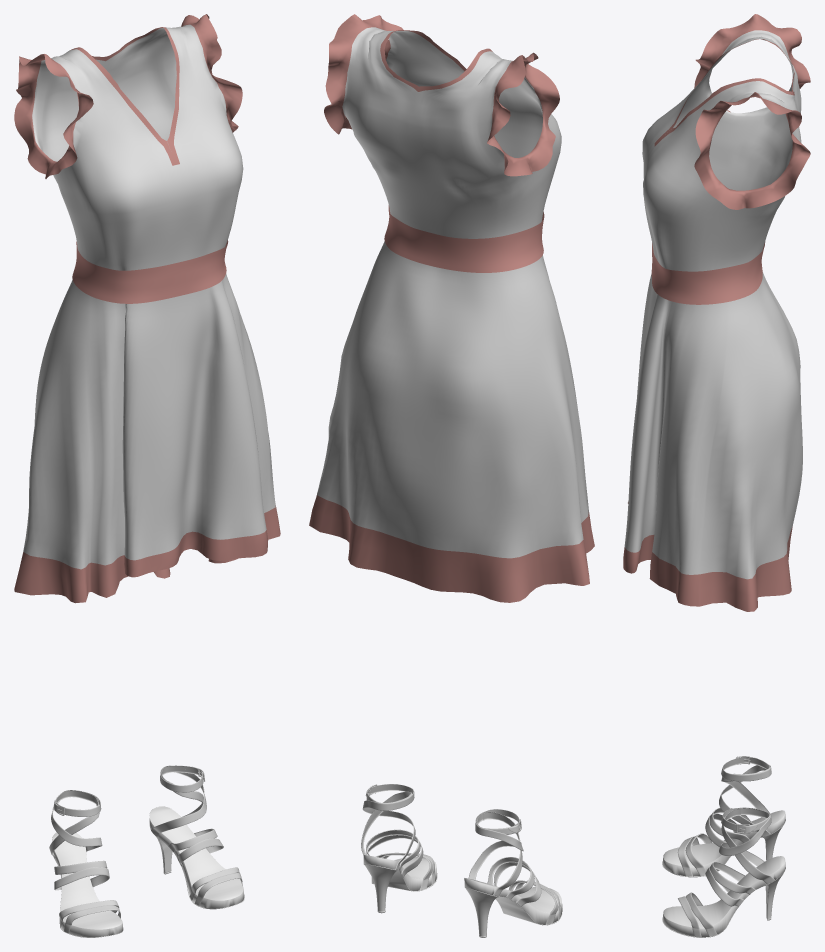
Rendered from replacemodel.glb.
The picture shows the model from 3 angles, left to right: view 1: azimuth 30°, elevation 25°; view 2: azimuth 150°, elevation 25°; view 3: azimuth 270°, elevation 25°; orthographic projection. The views are drawn at different scales.
Visible parts, largest first — view 1: dress, butyZPaskiem.001; view 2: dress, butyZPaskiem.001; view 3: dress, butyZPaskiem.001.
Part boxes in pixels (x1,y1,x2,y2): dress: [14, 14, 280, 603]; butyZPaskiem.001: [49, 765, 244, 937]; dress: [309, 14, 594, 602]; butyZPaskiem.001: [361, 784, 562, 937]; dress: [623, 14, 810, 611]; butyZPaskiem.001: [662, 756, 785, 937].
Size of the model in its own units: 0.4806 by 1.54 by 0.3102.
